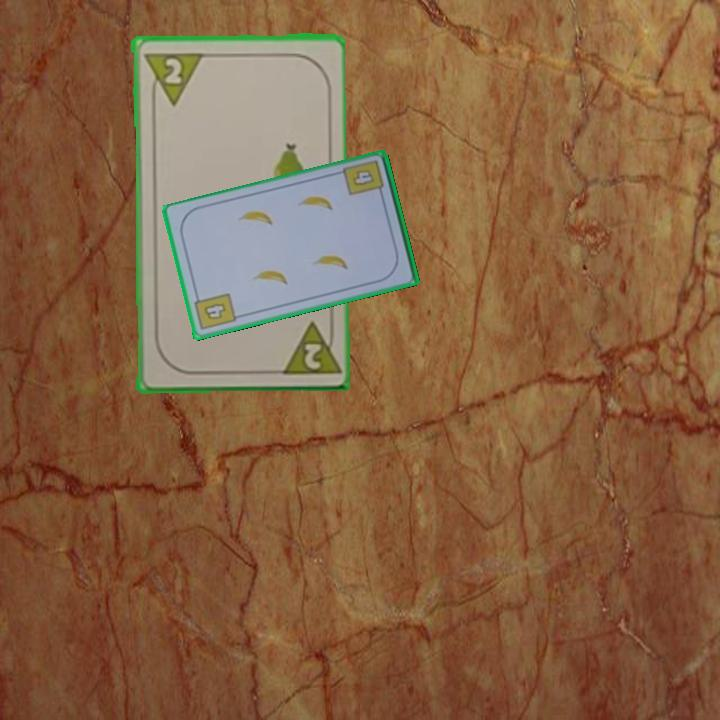2p: (276, 316, 341, 378), (139, 48, 204, 108)
4b: (340, 157, 387, 201), (191, 290, 239, 333)
